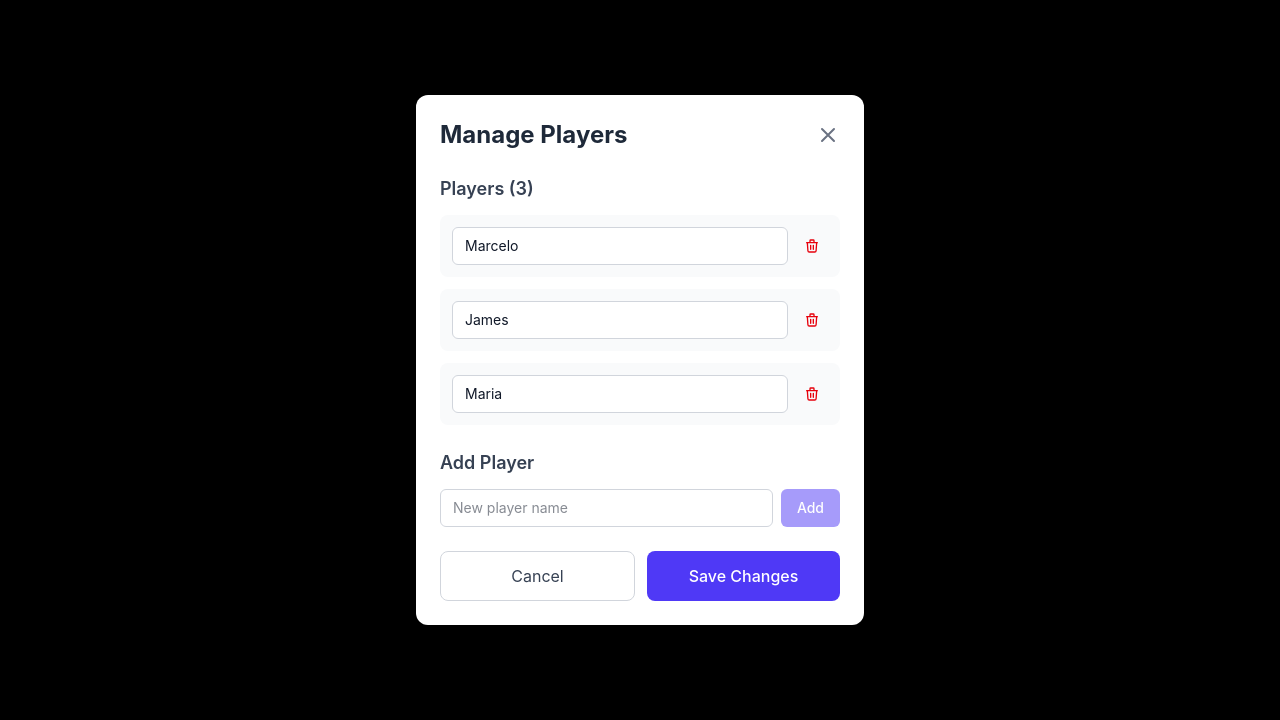
PlayerManagerModal › allows canceling the removal of a player with records
Click the 1st button titled "Remove player".
click(812, 246)  # box [796, 230, 828, 262]
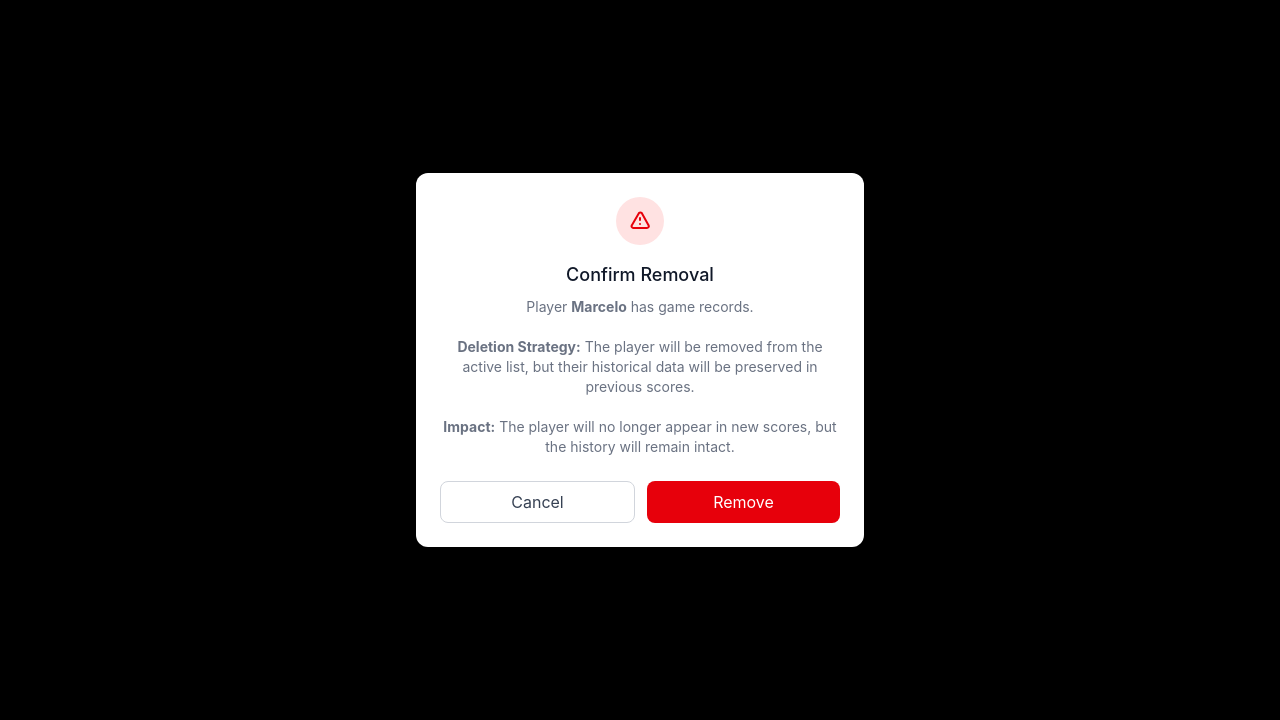
Check: the heading "Confirm Removal" is shown, box [566, 264, 714, 285]
Click the button "Cancel".
click(538, 502)  # box [440, 481, 635, 523]
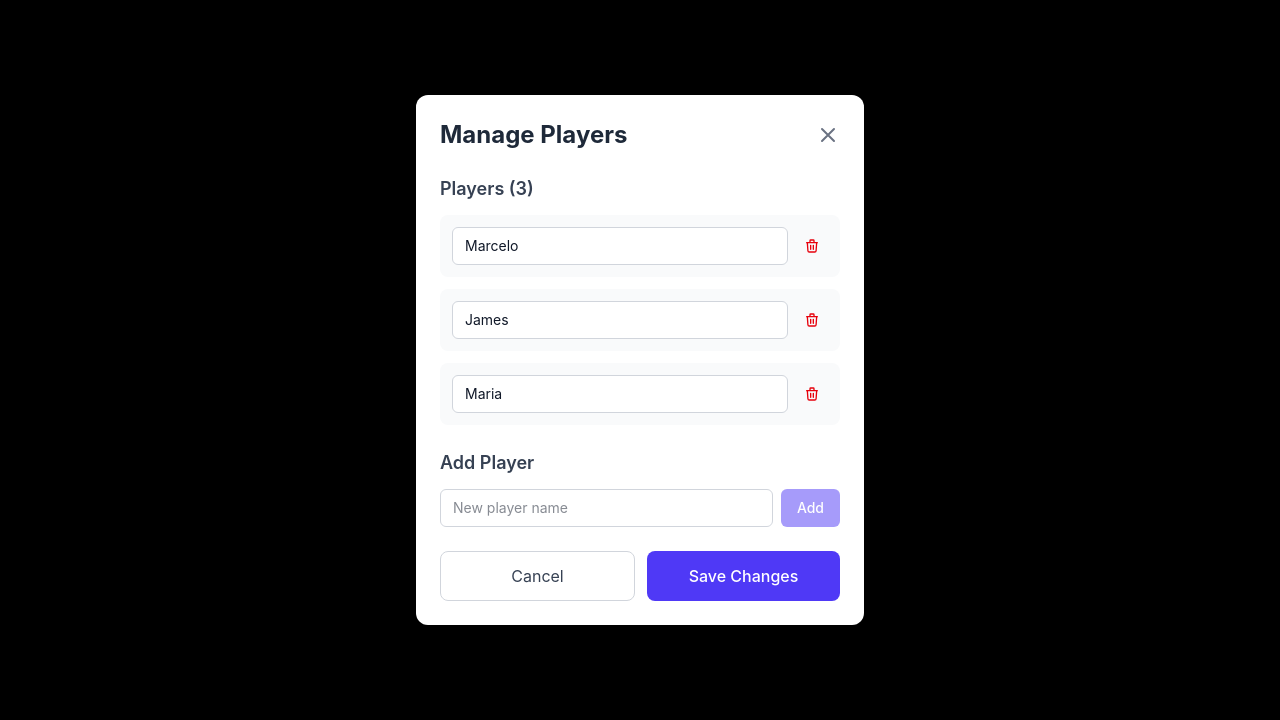
Check: the 1st field showing "Marcelo" is shown, box [452, 227, 788, 265]
Check: the heading "Confirm Removal" is gone
